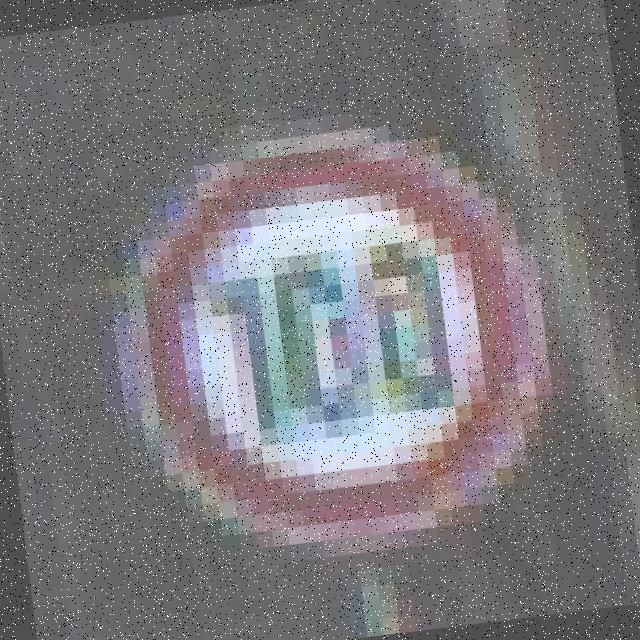Ograniczenie predkosci do 100: (122, 115, 559, 560)
